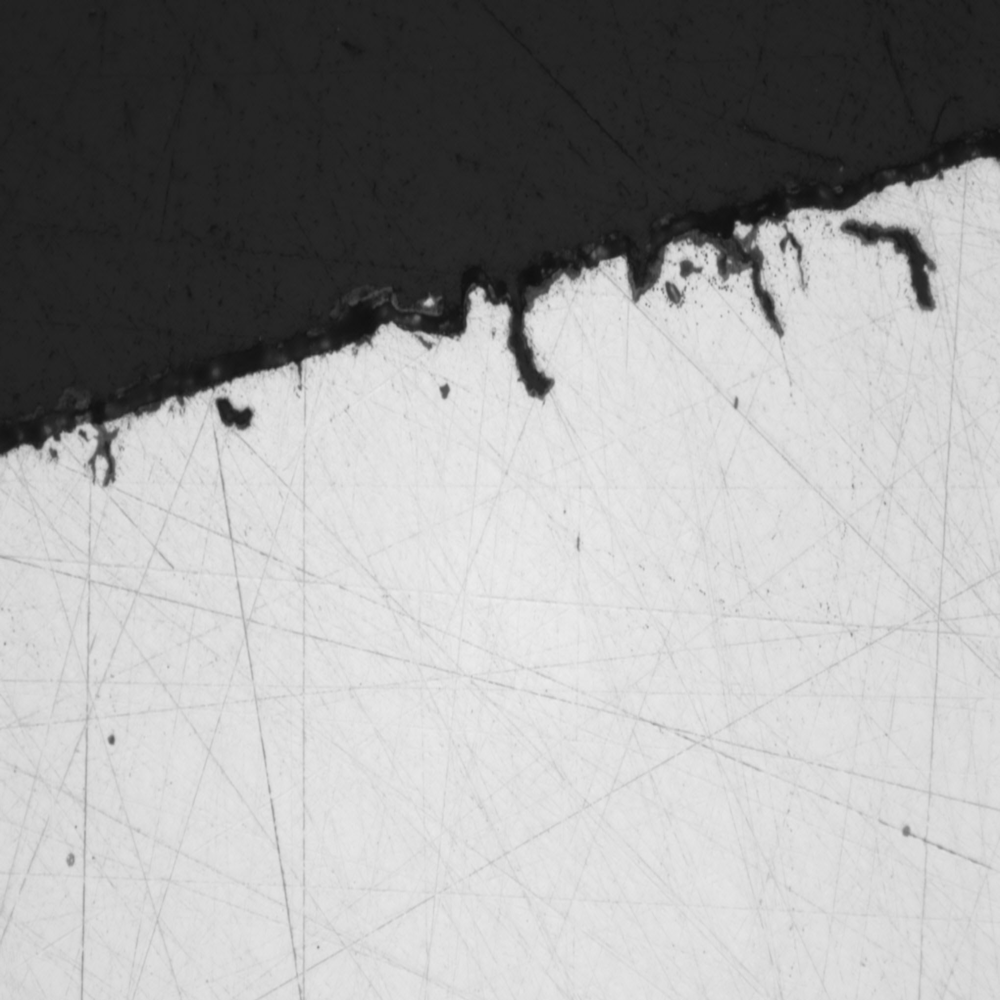crack: (392, 259, 569, 420), (836, 207, 957, 317), (695, 215, 813, 325), (611, 224, 682, 323), (71, 401, 136, 485), (200, 380, 274, 437)
